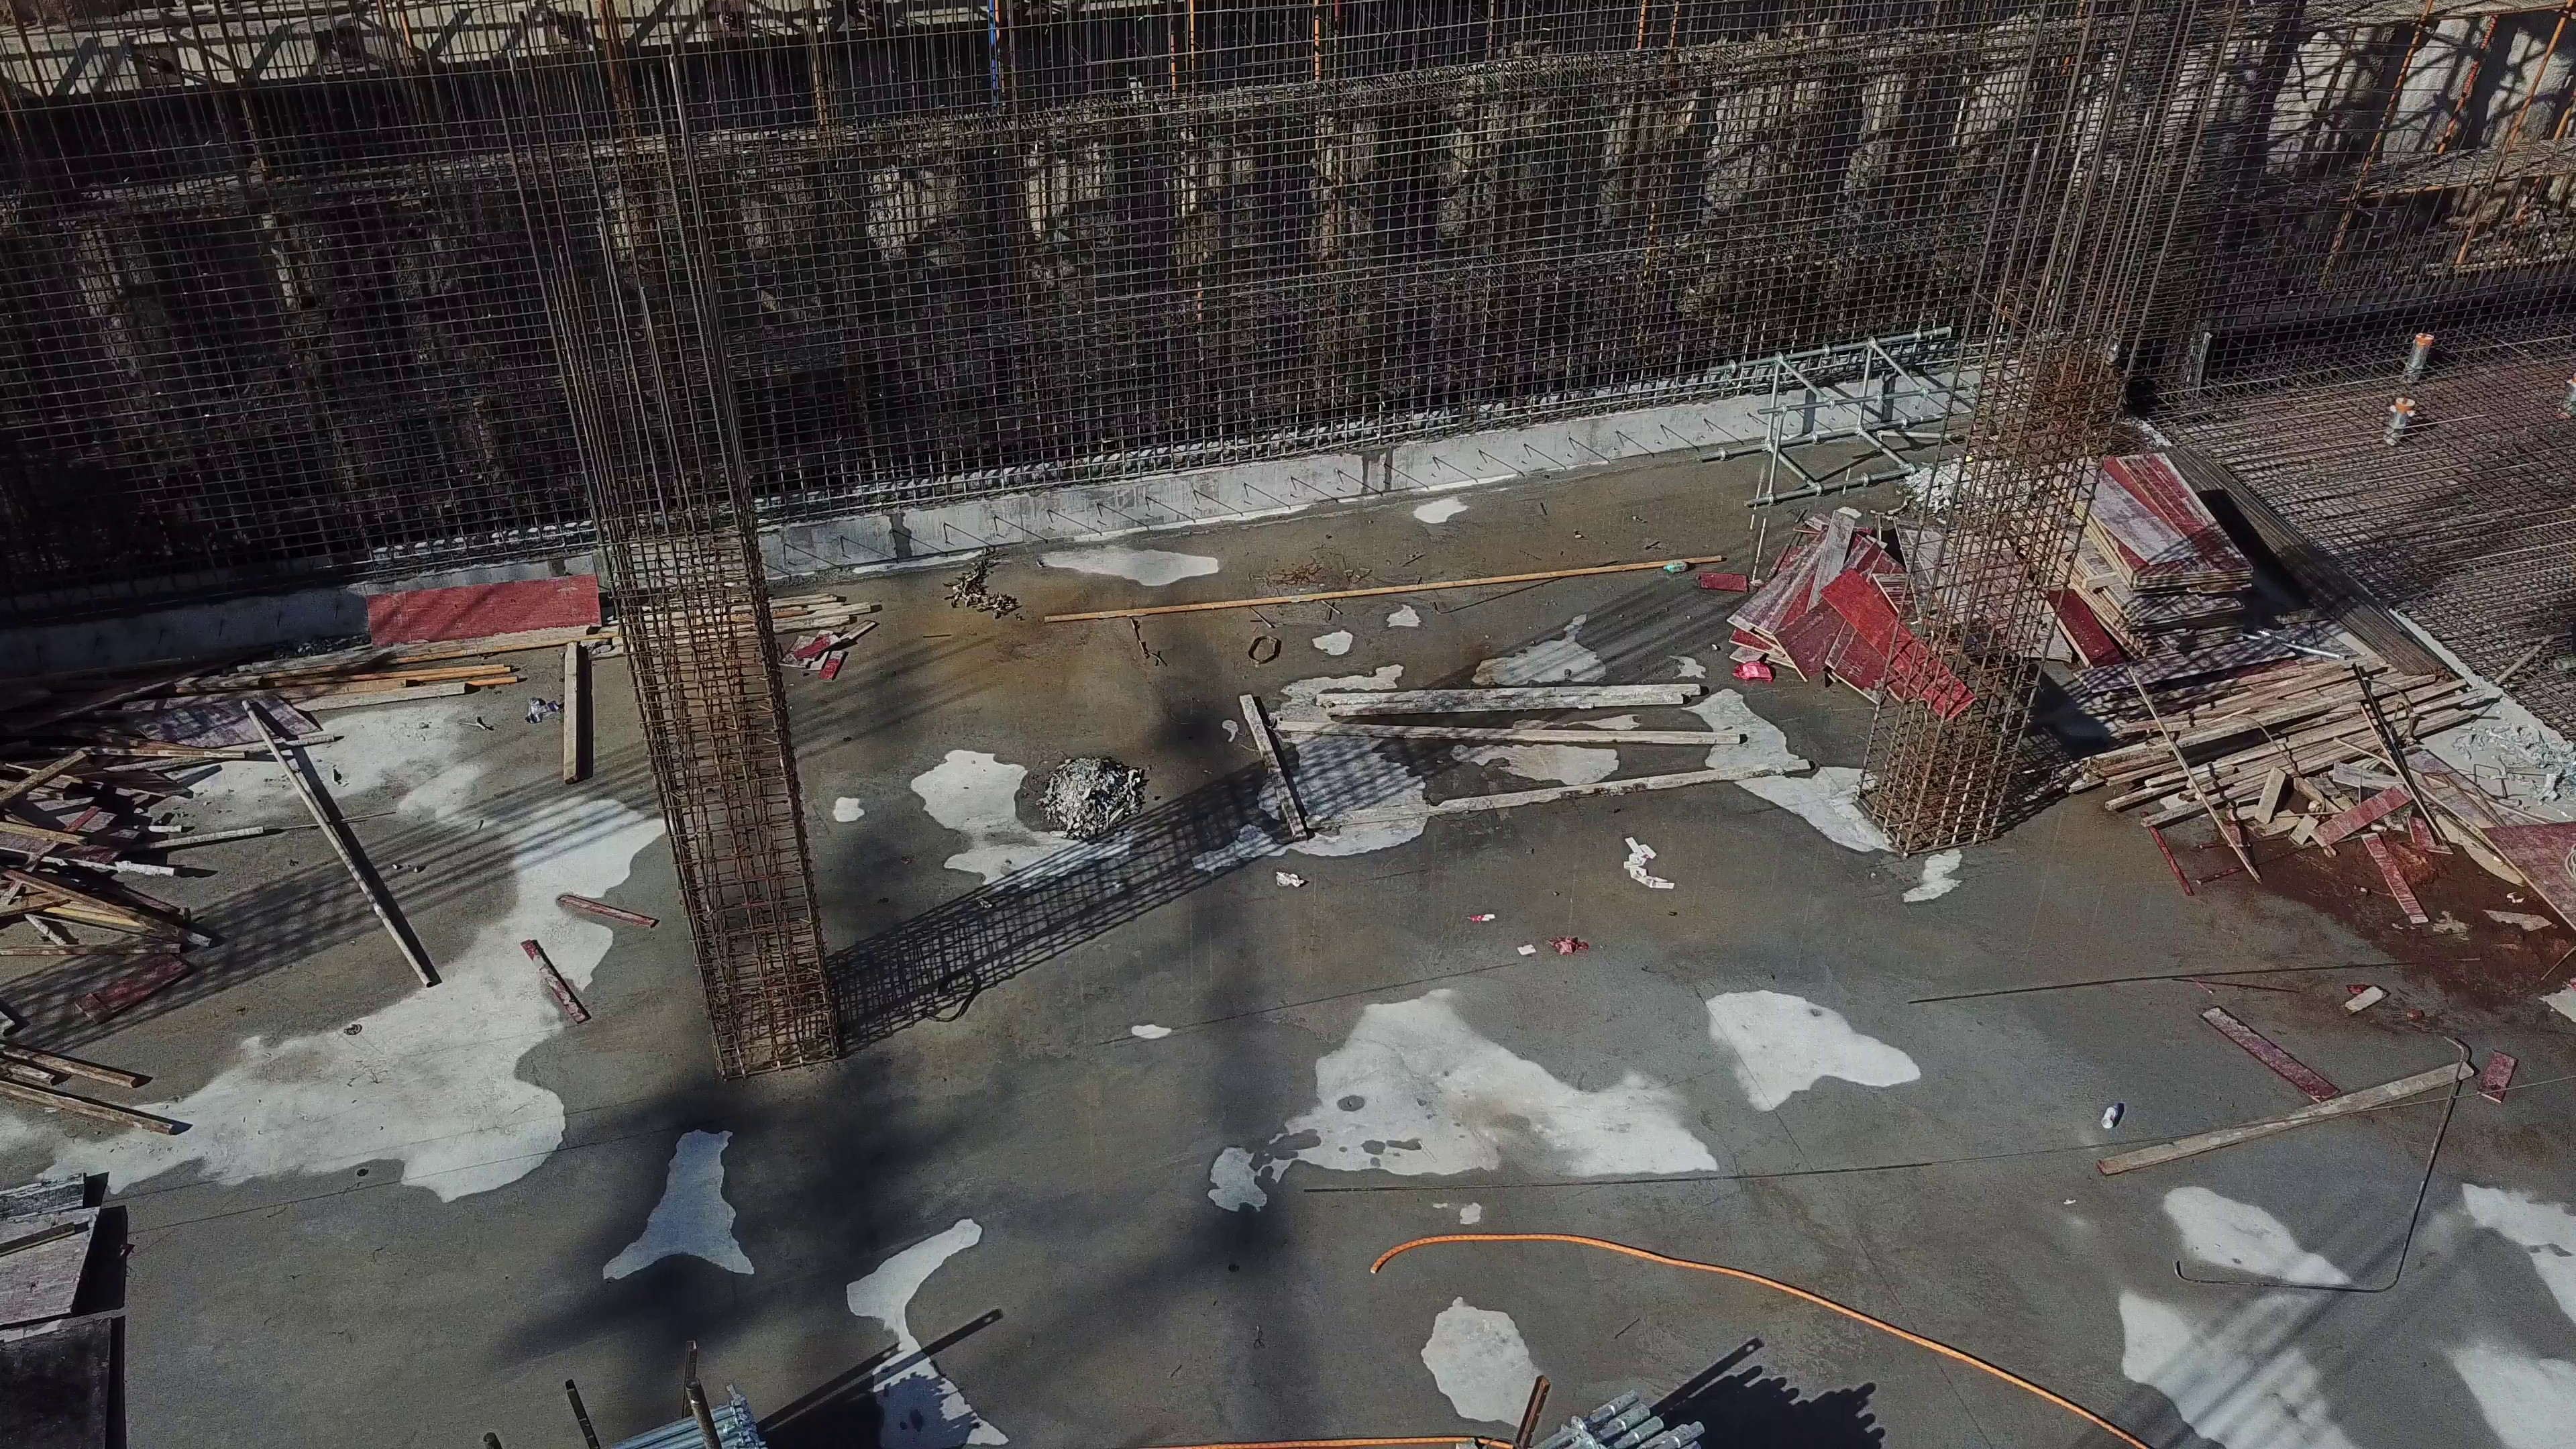board: (2077, 432, 2259, 688), (1725, 502, 1907, 708)
